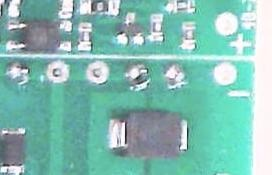chip-capacitor: (59, 0, 72, 17)
chip-resistor: (81, 0, 119, 16), (180, 21, 194, 49), (149, 14, 163, 42), (165, 0, 195, 13), (78, 22, 91, 49)
diode: (105, 108, 188, 158), (0, 127, 26, 174)
ic: (5, 19, 72, 51)
transistor: (115, 12, 143, 44)
